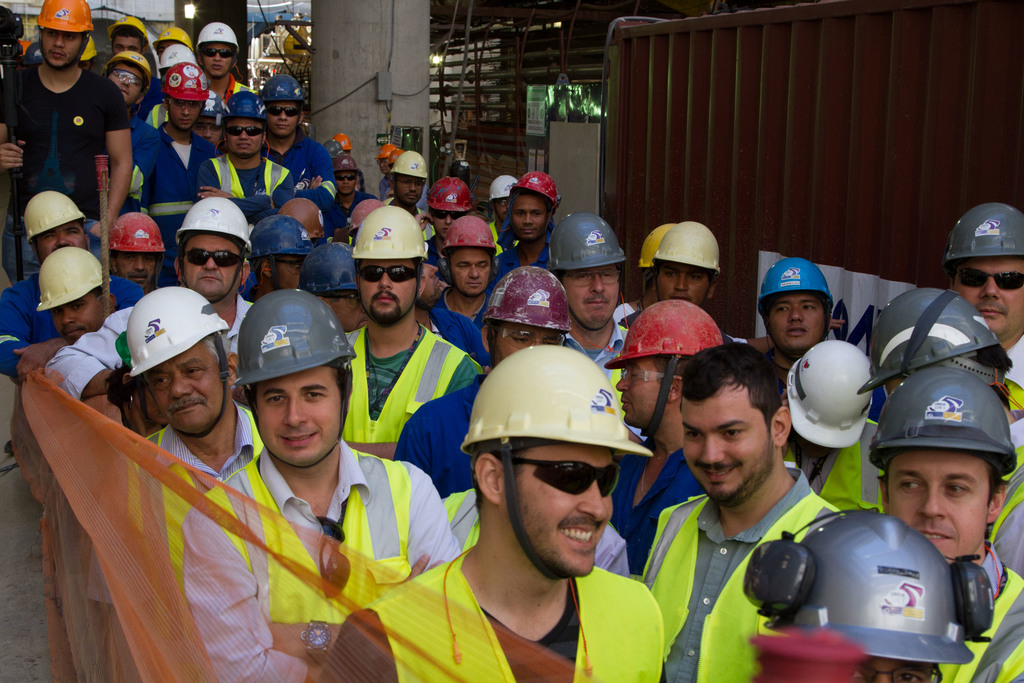face: (655, 255, 709, 308)
